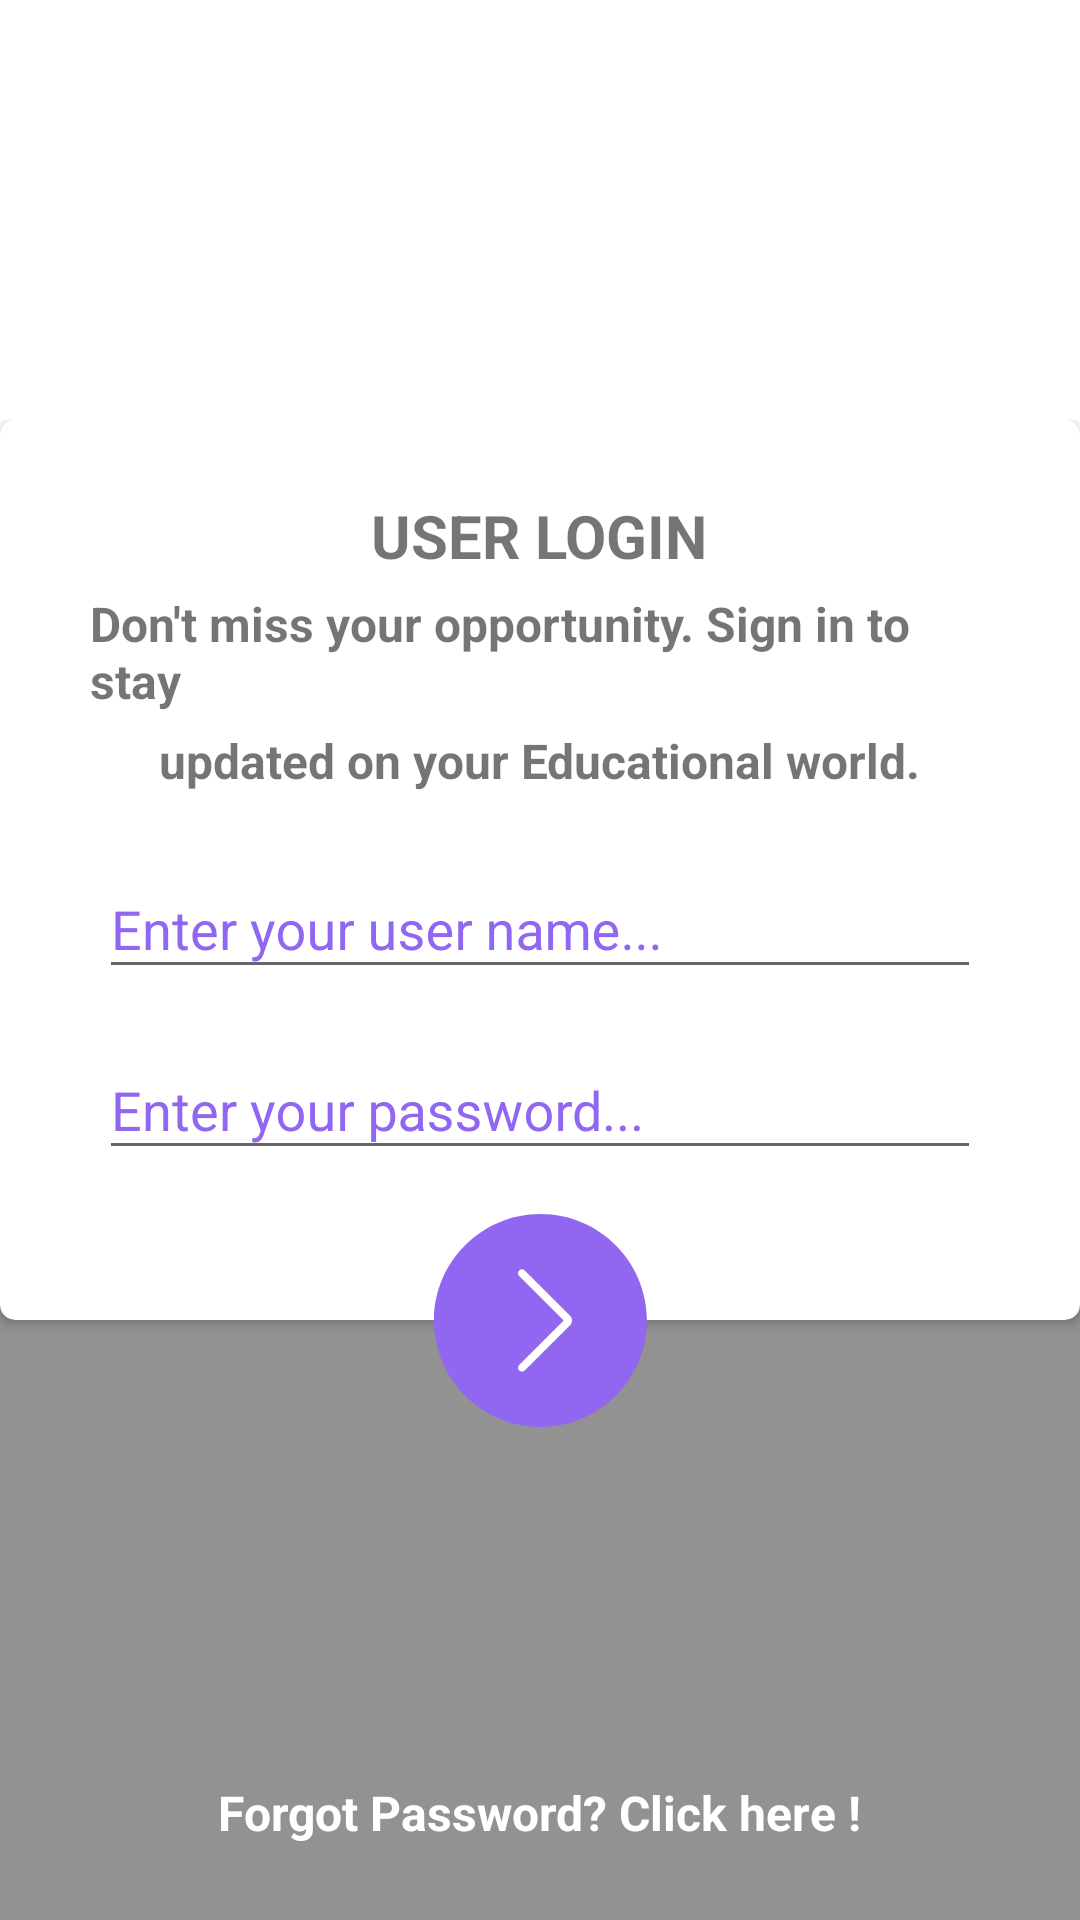

Icon click points for this 1080 × 1920 phone screenshot, format (x,y):
right arrow: (540,1320)
